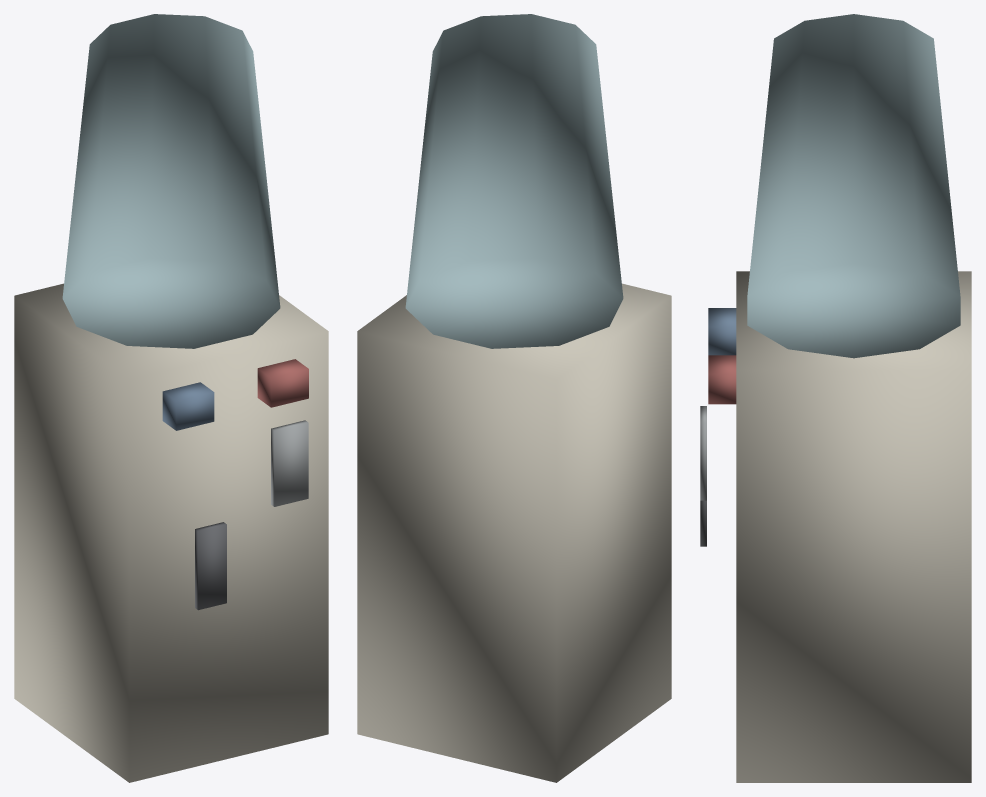
Rendered from water_cooler__weathered.glb.
3 renders of one model, left to right at view 1: azimuth 30°, elevation 25°; view 2: azimuth 150°, elevation 25°; view 3: azimuth 270°, elevation 25°, orthographic. The views are drawn at different scales.
Visible parts, largest first — view 1: world; view 2: world; view 3: world.
Boxes of the visible parts, x1,y1,x2,y2 form: world: (14, 14, 328, 782); world: (357, 14, 671, 782); world: (700, 14, 971, 782).
Size of the model in its own units: 0.42 by 1.35 by 0.484.
